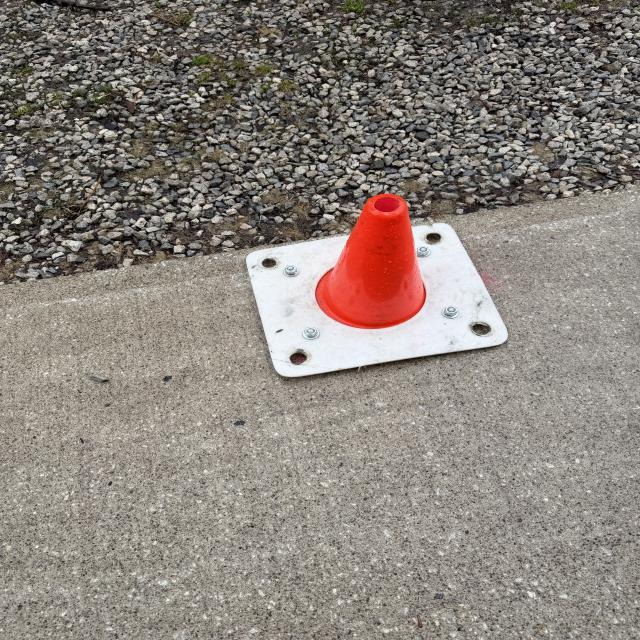Traffic Cone: (244, 194, 508, 378)
